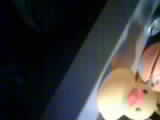duck: (96, 63, 150, 113)
